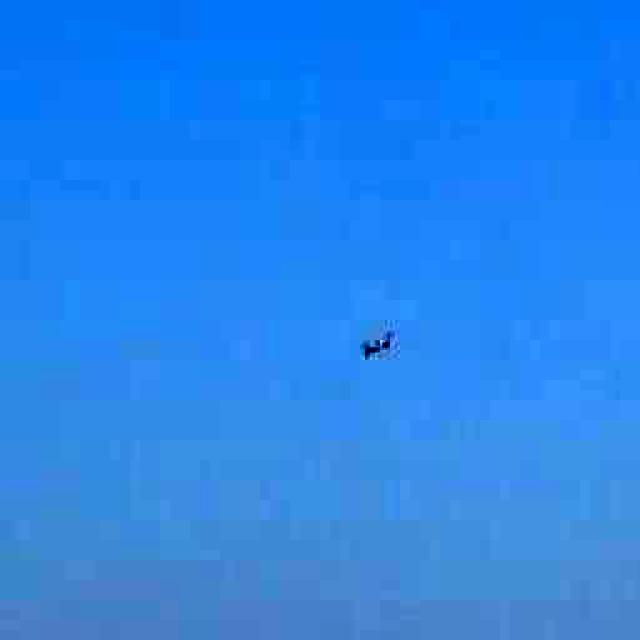bird: (336, 316, 411, 384)
